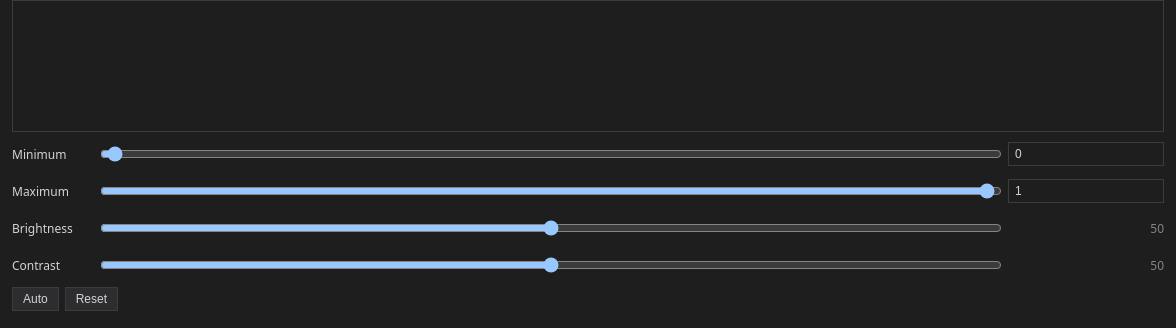
it: DataSetForm histogram range › advances the opposite bound for Maximum outside a float64 domain
The image size is (1176, 328).
Step 1. Replace the text in the number field named "Maximum" with "-2" → (1086, 191), box x1=1008 y1=179 x2=1164 y2=203
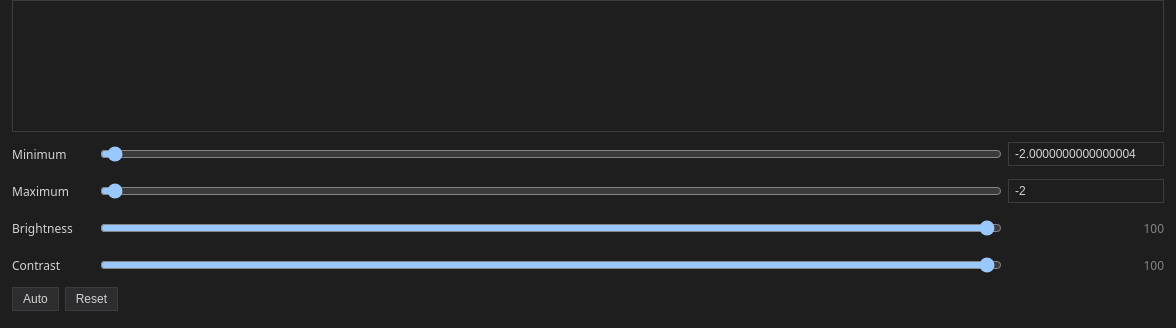
Result: the number field named "Minimum" holds "-2.0000000000000004" at x1=1008 y1=142 x2=1164 y2=166
